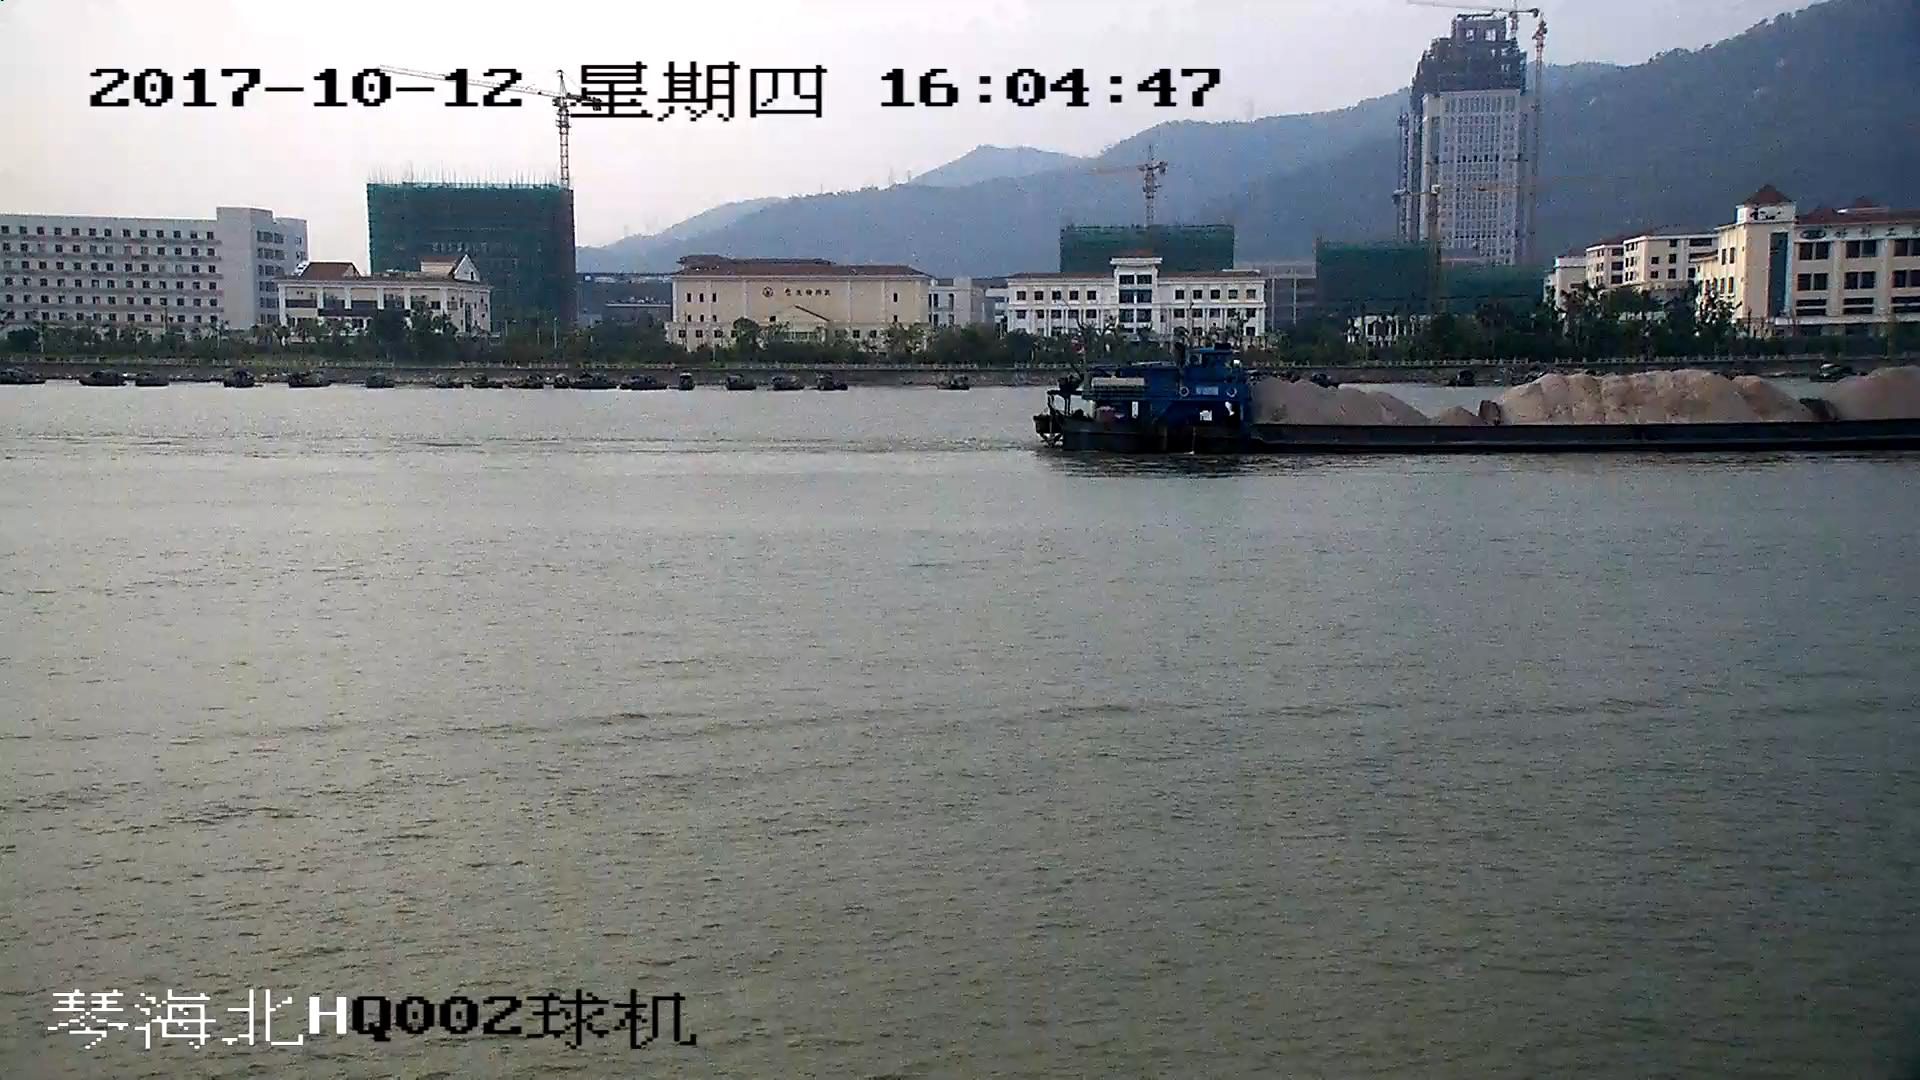ore carrier: (1036, 341, 1920, 461)
